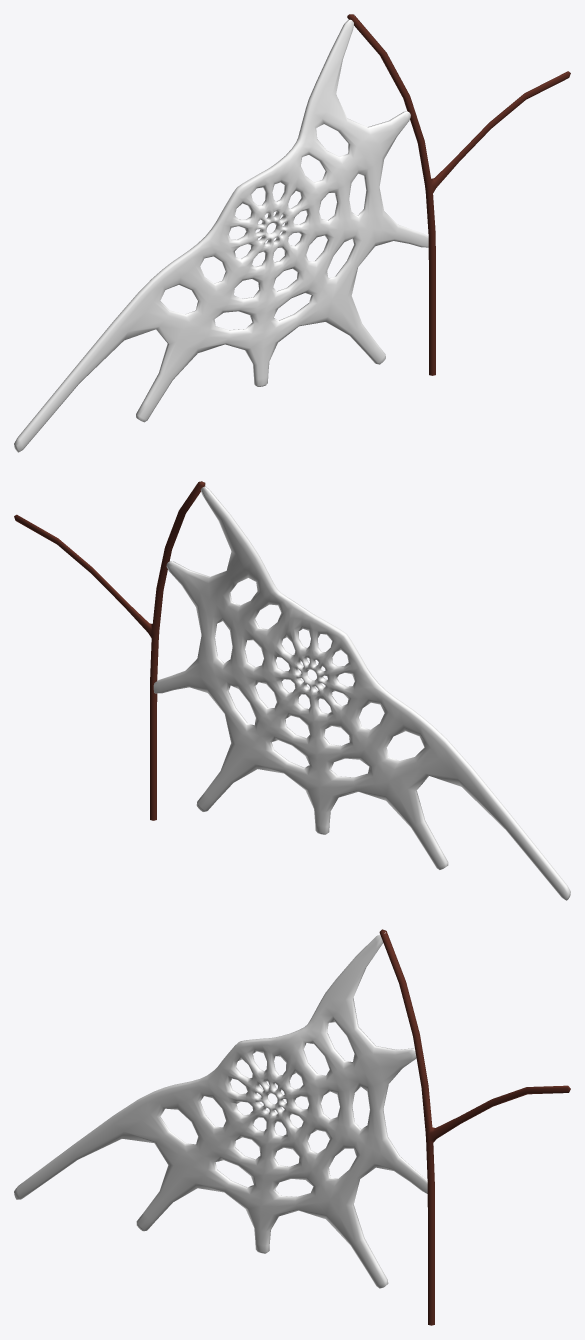
File: Spiderweb_SideThird_Joined.fbx
The picture shows the model from 3 angles, top to bottom: view 1: azimuth 30°, elevation 25°; view 2: azimuth 150°, elevation 25°; view 3: azimuth 330°, elevation 25°; orthographic projection.
Parts seen in each view (by area): view 1: Branch_SpiderWeb_Basic.004; view 2: Branch_SpiderWeb_Basic.004; view 3: Branch_SpiderWeb_Basic.004.
Part boxes in pixels (left/top/right/bottom): Branch_SpiderWeb_Basic.004: left=14, top=14, right=570, bottom=452; Branch_SpiderWeb_Basic.004: left=14, top=481, right=570, bottom=900; Branch_SpiderWeb_Basic.004: left=14, top=929, right=570, bottom=1325.
Bounding box in the file's own units: 824 × 516 × 52.57.
